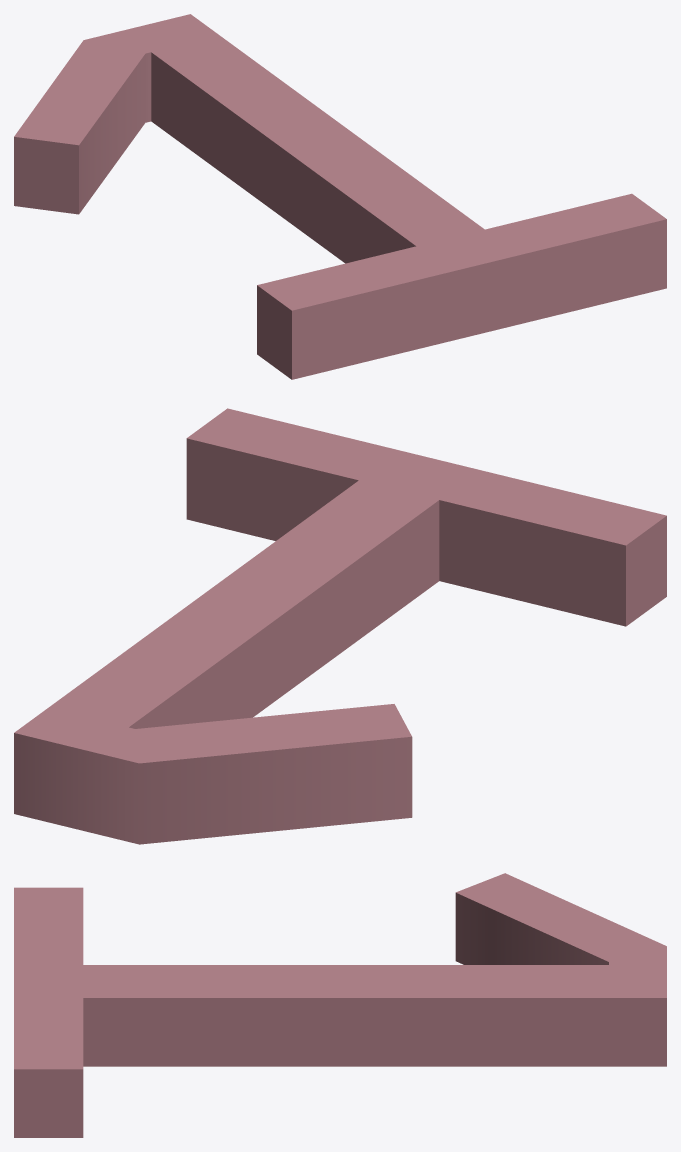
Rendered from One.fbx.
3 renders of one model, top to bottom at view 1: azimuth 30°, elevation 25°; view 2: azimuth 150°, elevation 25°; view 3: azimuth 270°, elevation 25°, orthographic. The views are drawn at different scales.
Visible parts, largest first — view 1: One; view 2: One; view 3: One.
Part boxes in pixels (<box>): One: <box>14,14,666,379</box>; One: <box>14,408,666,844</box>; One: <box>14,873,666,1137</box>.
Size of the model in its own units: 0.1538 by 0.0251 by 0.2165.
